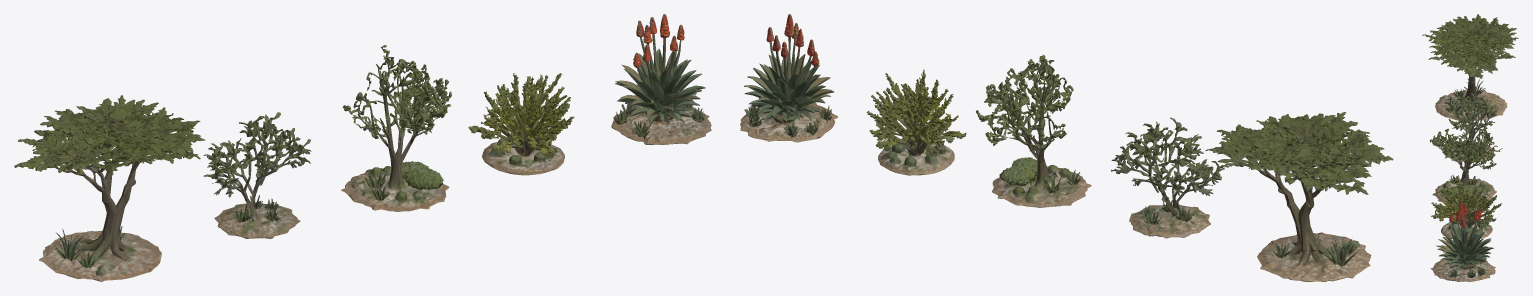
The model's file is plant_5.runtime.glb.
3 renders of one model, left to right at view 1: azimuth 30°, elevation 25°; view 2: azimuth 150°, elevation 25°; view 3: azimuth 270°, elevation 25°, orthographic. The views are drawn at different scales.
Visible parts, largest first — view 1: output_unwrapped; view 2: output_unwrapped; view 3: output_unwrapped.
Part boxes in pixels (x1,y1,x2,y2): output_unwrapped: [14, 14, 711, 281]; output_unwrapped: [740, 14, 1393, 281]; output_unwrapped: [1422, 14, 1518, 281].
Size of the model in its own units: 1.86 by 0.3831 by 0.3839.
Materials: 1 (1 with a texture image).
